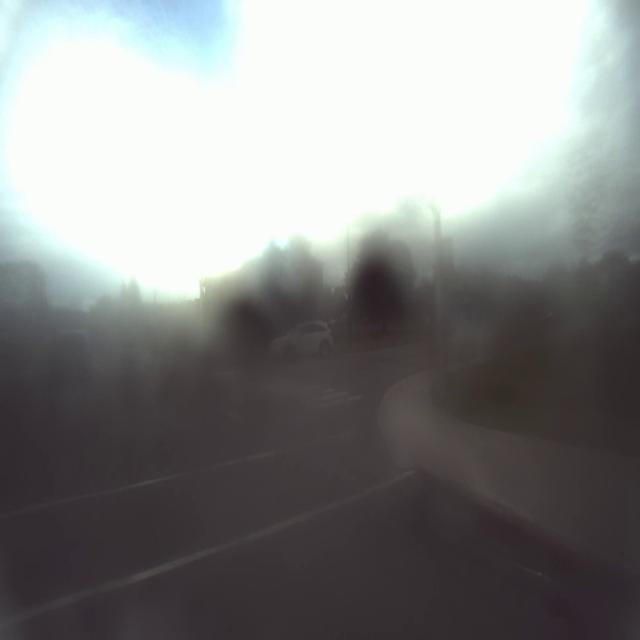car: (51, 316, 98, 389)
